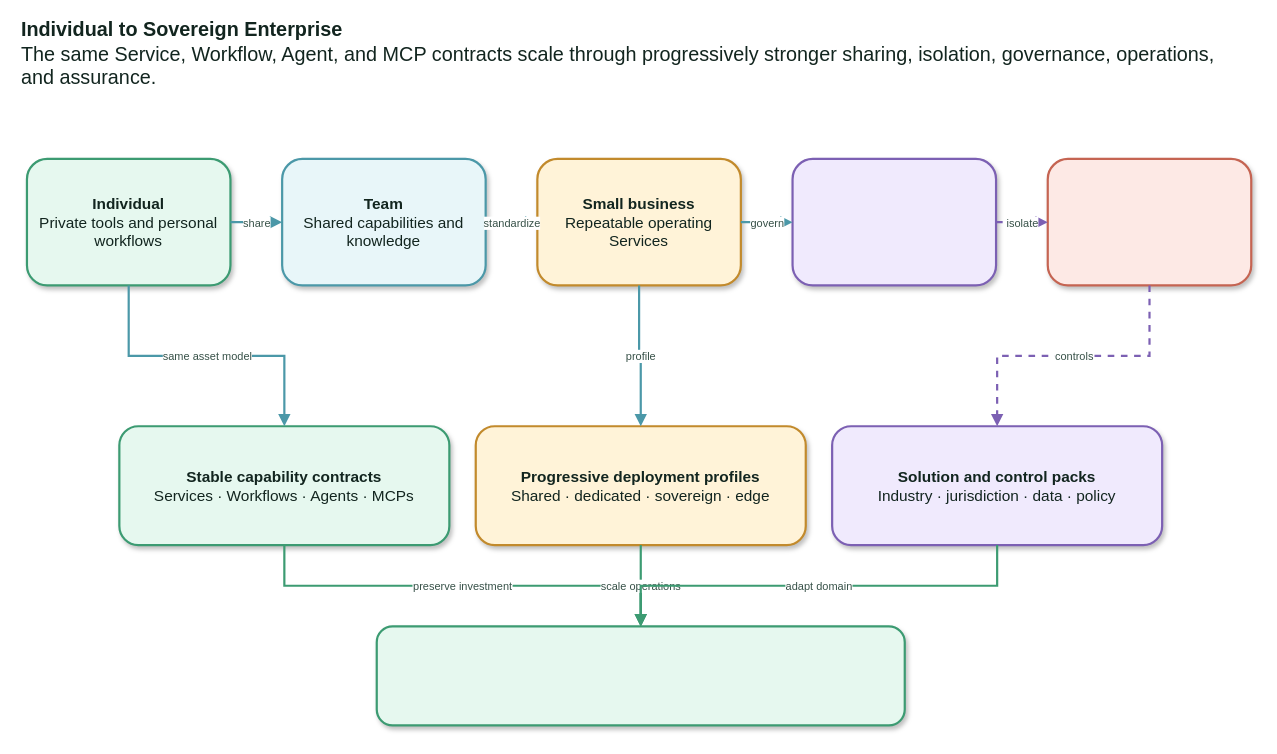
This 1277x754 diagram has some shape labels left out. The shapes that lost their labels are listed below. From the top down, each one's centre as x and y in pixels, then its label:
At point 895,223: "Enterprise Multi-tenant governed ecosystem".
At point 1150,223: "Sovereign / regulated Dedicated, restricted, or disconnected".
At point 641,677: "Outcome One useful Service to a governed ecosystem".
